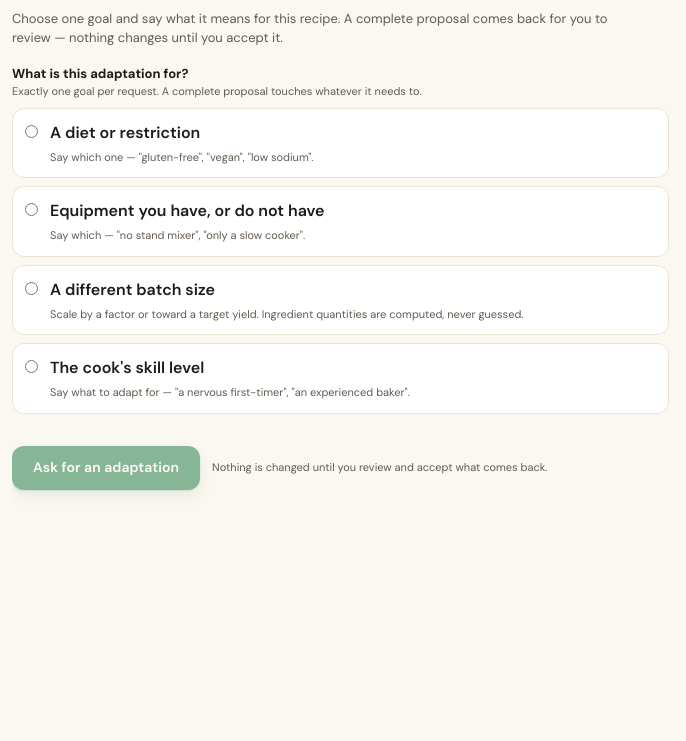
Test: RecipeAdaptationRequestComponent › explains an unresolvable yield target
This screenshot has width=686, height=741.
Click the radio button named "cp-adaptation-goal" at (32, 288), box [25,282,38,295]
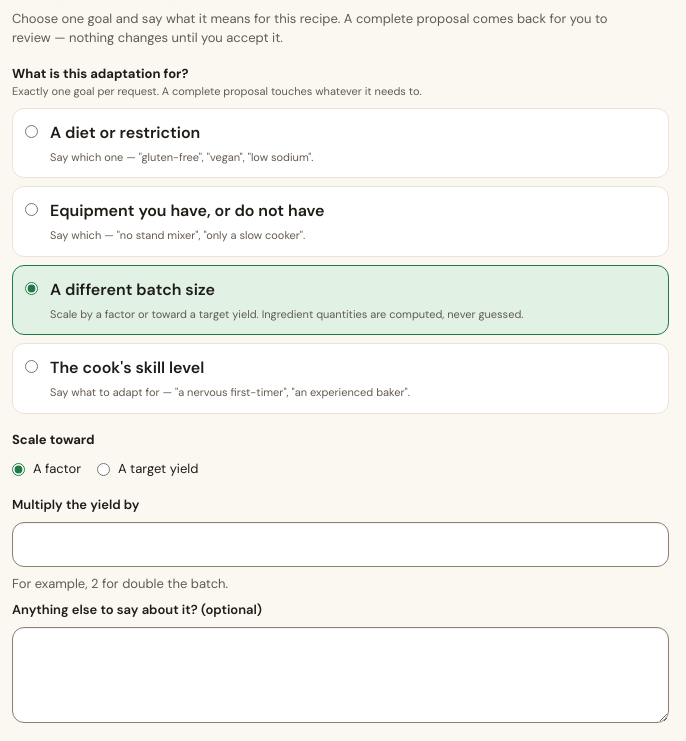
Type "2" into the number field with id "cp-adaptation-yield-value" at (340, 545), box [12,522,669,567]
(page scrolled)
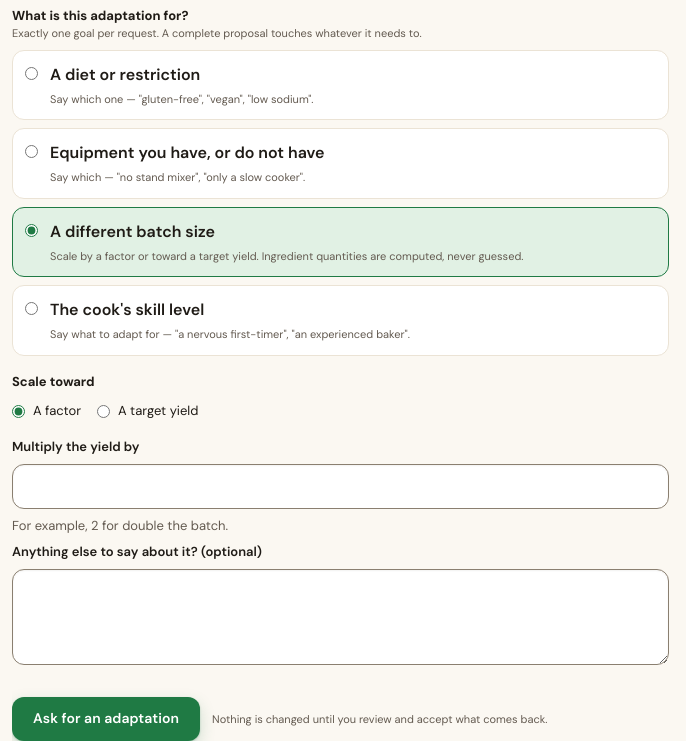
Click the button "Ask for an adaptation" at (106, 719), box [12,697,200,740]
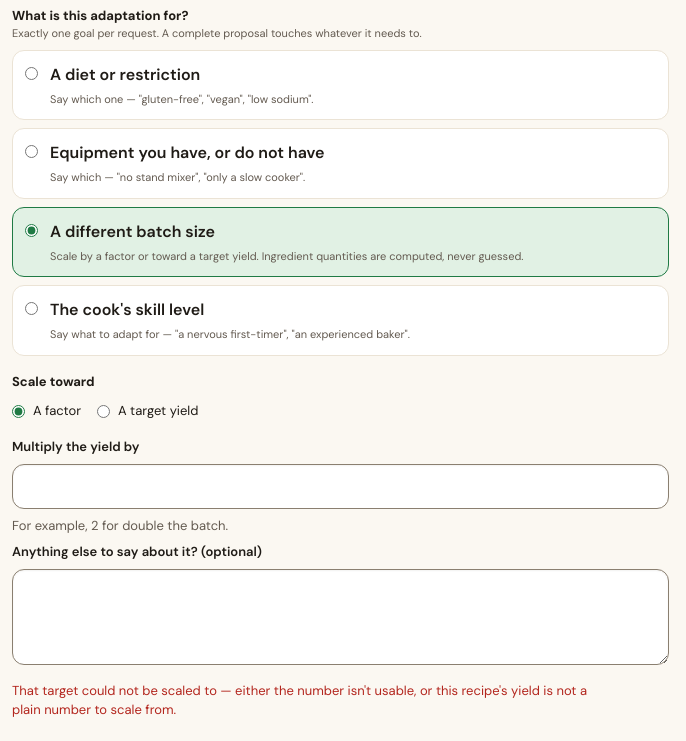
Check: the message shows "could not be scaled to", box [12,682,587,718]
